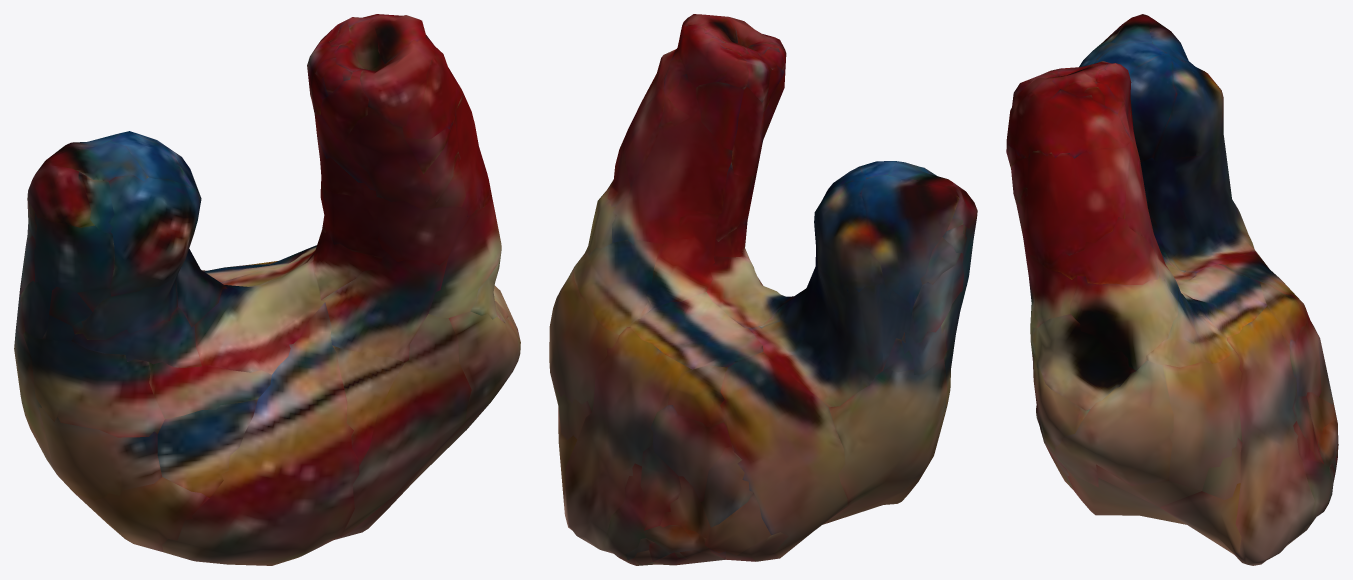
The model's file is hall.glb.
3 views of the same model, side by side, from view 1: azimuth 30°, elevation 25°; view 2: azimuth 150°, elevation 25°; view 3: azimuth 270°, elevation 25° (orthographic). The views are drawn at different scales.
Size of the model in its own units: 0.5575 by 0.6042 by 0.3846.
Materials: 1 (1 with a texture image).
